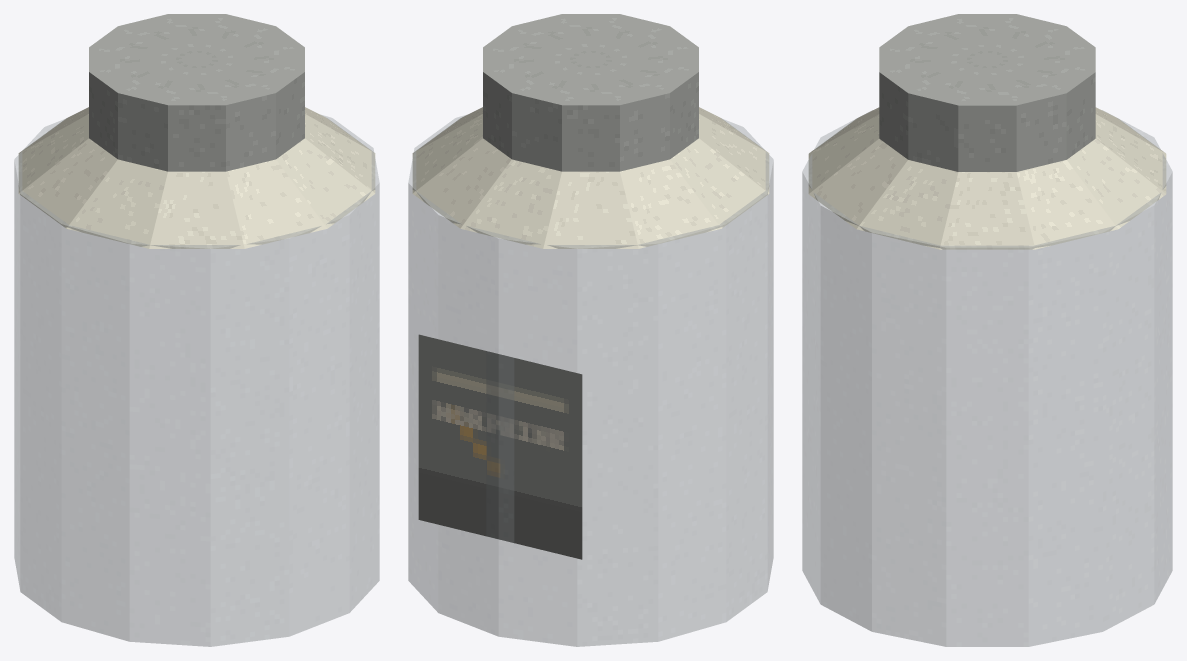
Rendered from morphine.glb.
The picture shows the model from 3 angles, left to right: view 1: azimuth 30°, elevation 25°; view 2: azimuth 150°, elevation 25°; view 3: azimuth 270°, elevation 25°; orthographic projection.
Visible parts, largest first — view 1: block_medical bottle, block_tapered shoulder, block_bottle cap; view 2: block_medical bottle, block_medicine label, block_tapered shoulder, block_bottle cap; view 3: block_medical bottle, block_tapered shoulder, block_bottle cap.
Part boxes in pixels (x1=…): block_medical bottle: x1=14, y1=114, x2=379, y2=646; block_tapered shoulder: x1=18, y1=107, x2=375, y2=248; block_bottle cap: x1=89, y1=14, x2=304, y2=171; block_medical bottle: x1=408, y1=115, x2=773, y2=646; block_medicine label: x1=418, y1=334, x2=582, y2=559; block_tapered shoulder: x1=412, y1=107, x2=769, y2=248; block_bottle cap: x1=483, y1=14, x2=698, y2=171; block_medical bottle: x1=802, y1=110, x2=1172, y2=646; block_tapered shoulder: x1=808, y1=107, x2=1166, y2=249; block_bottle cap: x1=879, y1=14, x2=1095, y2=171.
Bounding box in the file's own units: 0.0152 × 0.0237 × 0.0156.
2 materials, 2 textured.
